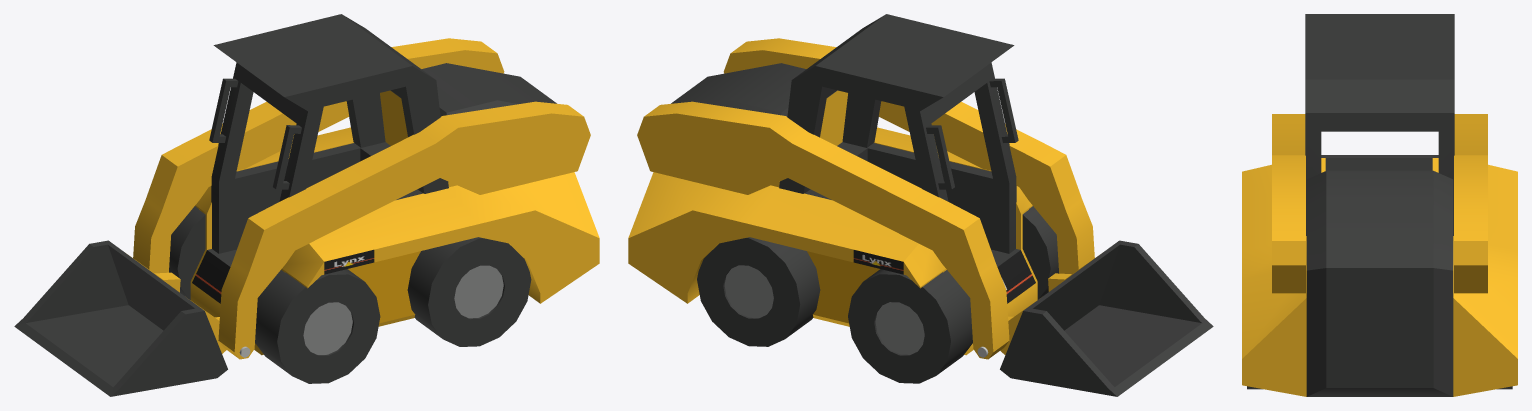
Rendered from SkidSteer.fbx.
3 views of the same model, side by side, from view 1: azimuth 30°, elevation 25°; view 2: azimuth 150°, elevation 25°; view 3: azimuth 270°, elevation 25° (orthographic). The views are drawn at different scales.
Parts seen in each view (by area): view 1: Cube, Cube.002, Cube.001, Cube.003; view 2: Cube, Cube.002, Cube.001, Cube.003; view 3: Cube, Cube.002, Cube.003.
Boxes of the visible parts, x1,y1,x2,y2 form: Cube: (190, 14, 599, 355); Cube.002: (133, 38, 590, 359); Cube.001: (169, 206, 531, 383); Cube.003: (14, 240, 227, 396); Cube: (628, 14, 1037, 355); Cube.002: (637, 38, 1094, 359); Cube.001: (697, 206, 1058, 383); Cube.003: (1000, 240, 1213, 396); Cube: (1242, 14, 1517, 396); Cube.002: (1272, 114, 1487, 293); Cube.003: (1321, 155, 1438, 172).
Bounding box in the file's own units: 580 × 309 × 272.
